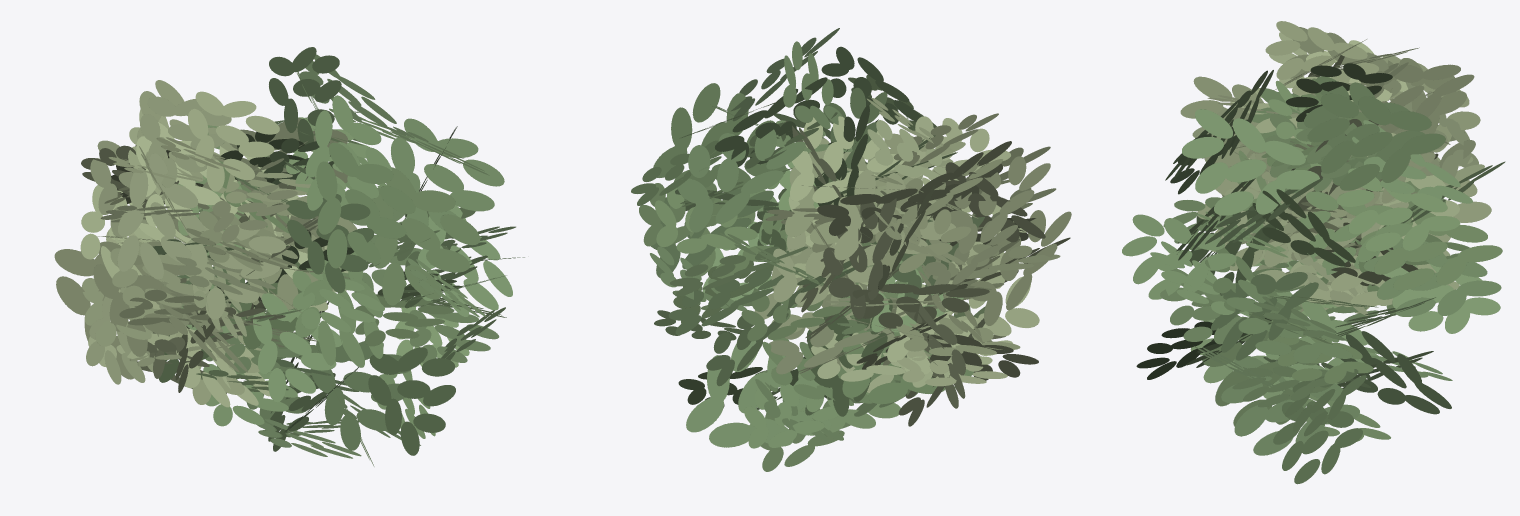
File: campus-tree--7_-7-middle.glb
The picture shows the model from 3 angles, left to right: view 1: azimuth 30°, elevation 25°; view 2: azimuth 150°, elevation 25°; view 3: azimuth 270°, elevation 25°; orthographic projection. The views are drawn at different scales.
Parts seen in each view (by area): view 1: Campus leaf canopy; view 2: Campus leaf canopy; view 3: Campus leaf canopy.
Part boxes in pixels (left/top/right/bottom): Campus leaf canopy: left=54, top=47, right=524, bottom=466; Campus leaf canopy: left=631, top=28, right=1071, bottom=471; Campus leaf canopy: left=1122, top=21, right=1505, bottom=484.
Bounding box in the file's own units: 5.71 × 5.32 × 4.53.
1 material, 1 textured.
